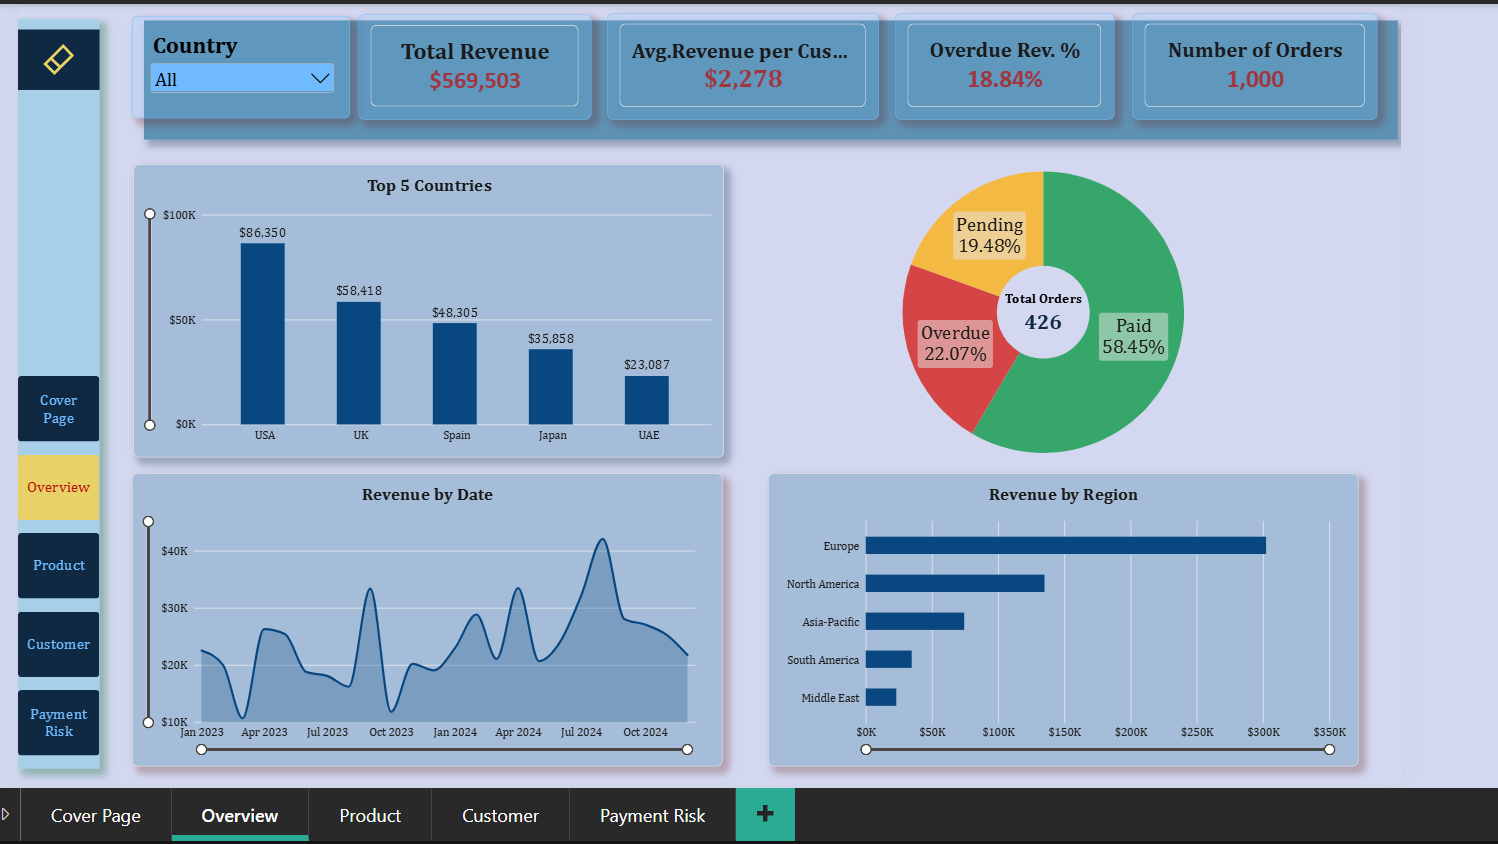

The page's visual inventory and layout, read from the dashboard file:
{"tool":"powerbi","page":{"name":"Overview","canvas":[1920,1080],"ordinal":1},"visuals":[{"type":"shape","box":[0,16.5,113.7,1041.4],"z":0,"group":"g1"},{"type":"shape","box":[174.1,19.3,1741.3,165.4],"z":0,"group":"g2"},{"type":"lineChart","title":"Revenue by Date","fields":{"Category":["Orders.OrderDate.Variation.Date Hierarchy.Year","Orders.OrderDate.Variation.Date Hierarchy.Quarter","Orders.OrderDate.Variation.Date Hierarchy.Month"],"Y":["Sum(Orders.Revenue)"]},"box":[158.3,647.4,819.8,406.4],"z":0},{"type":"cardVisual","fields":{"Data":["Calculation.Total Revenue"]},"box":[472.7,10.8,323.2,145.8],"z":500,"group":"g2"},{"type":"cardVisual","fields":{"Data":["Customers.AVG Revenue"]},"box":[819.4,8.4,376.7,148.3],"z":1000,"group":"g2"},{"type":"barChart","title":"Revenue by Region","fields":{"Category":["Geo.Region","Geo.Country","Geo.City"],"Y":["Sum(Orders.Revenue)"]},"box":[1041.9,647.4,819.8,406.4],"z":1000},{"type":"slicer","fields":{"Values":["Geo.Country"]},"box":[158.3,11.8,302.4,141.8],"z":1500,"group":"g2"},{"type":"cardVisual","fields":{"Data":["Calculation.Overdue Revenue %"]},"box":[1219.6,8.4,303.8,148.3],"z":2000,"group":"g2"},{"type":"clusteredColumnChart","title":"Top 5 Countries","fields":{"Category":["Orders.Country"],"Y":["Sum(Orders.Revenue)"]},"box":[160.7,219.7,819.8,406.4],"z":2000},{"type":"pageNavigator","box":[0,512.4,113,529],"z":2000,"group":"g1"},{"type":"cardVisual","fields":{"Data":["Customers.Total Orders"]},"box":[1546.9,8.4,340.3,148.3],"z":3000,"group":"g2"},{"type":"donutChart","title":"Payment Status","fields":{"Category":["Orders.PaymentStatus"],"Y":["CountNonNull(Orders.OrderID)"]},"box":[986.3,149,877.2,549.8],"z":3000},{"type":"group","id":"g1","title":"Group 3","box":[0,16.5,113.7,1041.4],"z":4000},{"type":"actionButton","box":[0,31,113,84],"z":5000},{"type":"group","id":"g2","title":"Group 1","box":[158.3,8.4,1757.1,176.3],"z":6000}]}

Visuals, with their boxes on the page's 1920x1080 design canvas (x1, y1, x2, y2). These are canvas units, not pixel positions in the 1498x844 screenshot, which may show the page scaled, cropped or inside an application window:
shape: 0/16/114/1058
shape: 174/19/1915/185
"Revenue by Date" lineChart: 158/647/978/1054
cardVisual - Calculation.Total Revenue: 473/11/796/157
cardVisual - Customers.AVG Revenue: 819/8/1196/157
"Revenue by Region" barChart: 1042/647/1862/1054
slicer - Geo.Country: 158/12/461/154
cardVisual - Calculation.Overdue Revenue %: 1220/8/1523/157
"Top 5 Countries" clusteredColumnChart: 161/220/980/626
pageNavigator: 0/512/113/1041
cardVisual - Customers.Total Orders: 1547/8/1887/157
"Payment Status" donutChart: 986/149/1864/699
"Group 3" group: 0/16/114/1058
actionButton: 0/31/113/115
"Group 1" group: 158/8/1915/185
